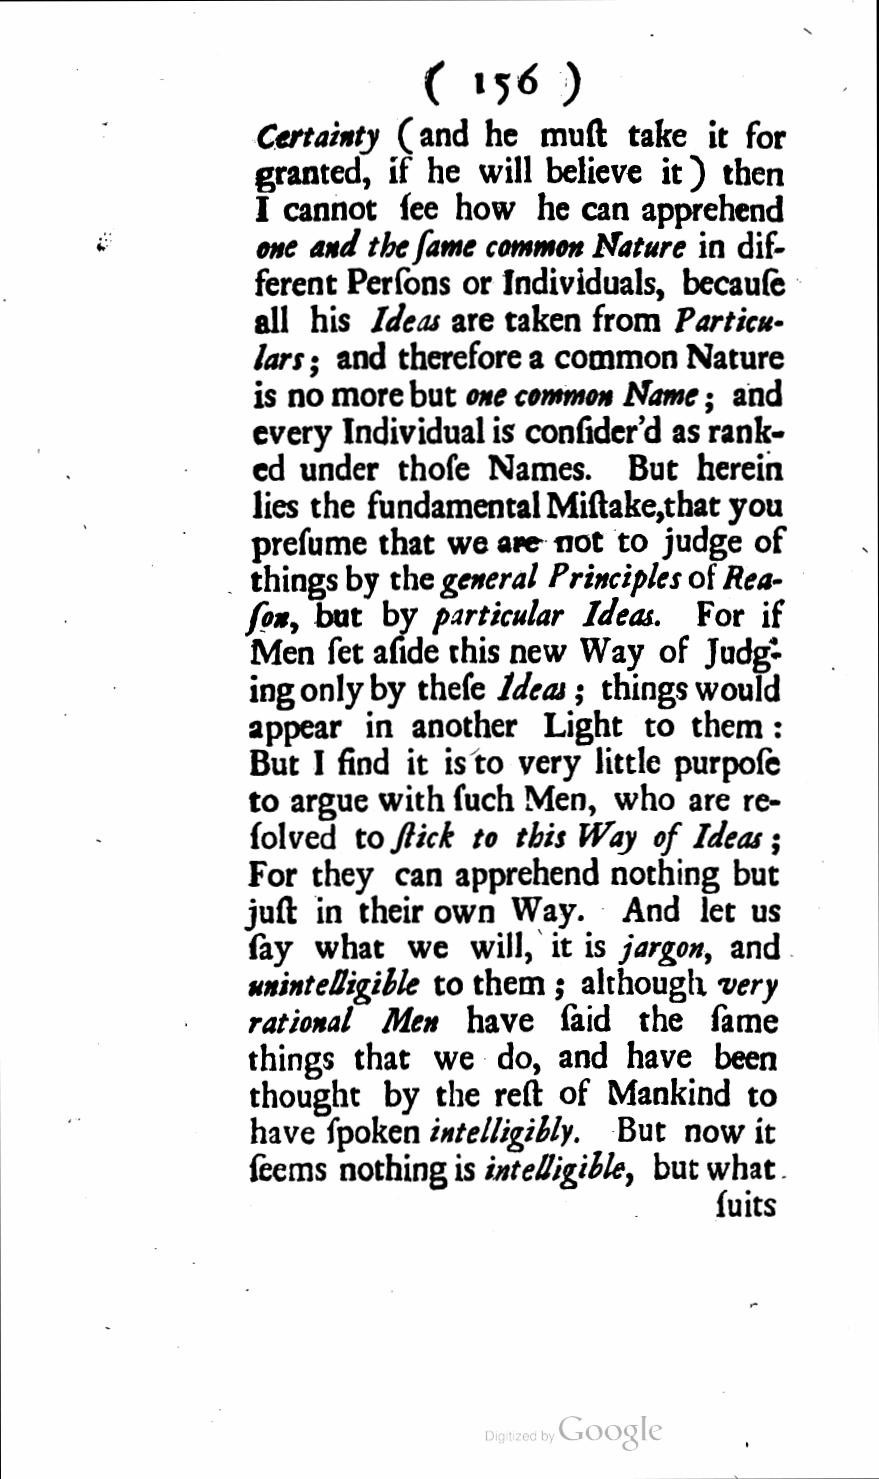catchword: (709, 1188, 784, 1226)
page_num: (472, 62, 542, 110)
top_p: (246, 120, 790, 1190)
